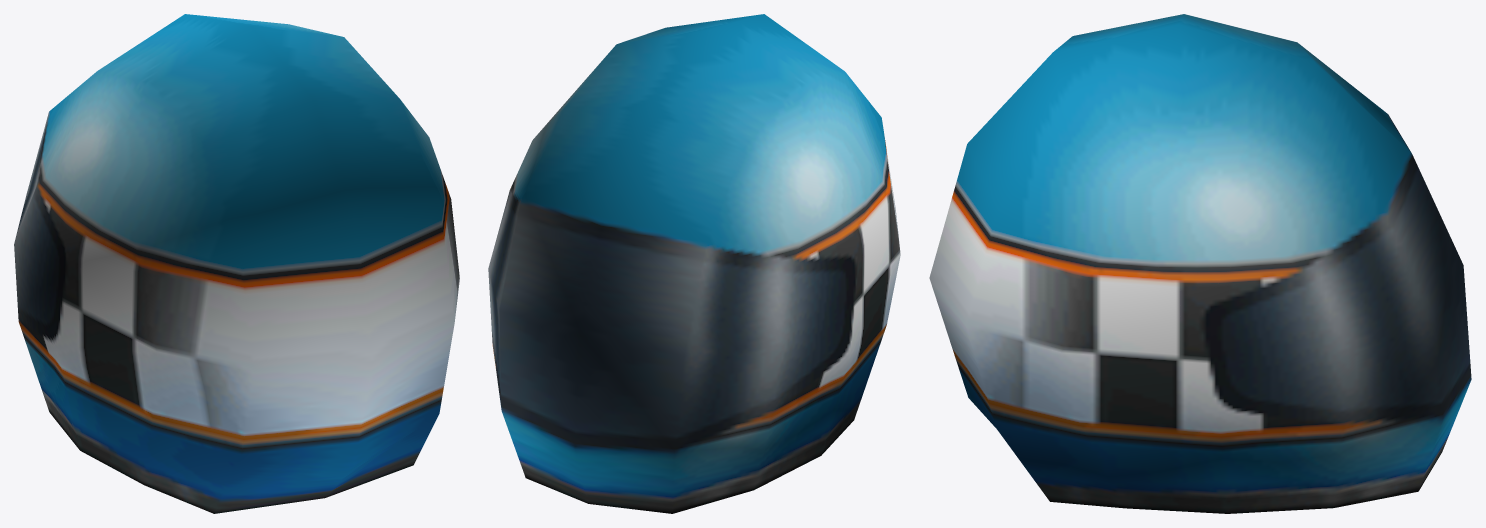
The model's file is list.ico.obj.
3 renders of one model, left to right at view 1: azimuth 30°, elevation 25°; view 2: azimuth 150°, elevation 25°; view 3: azimuth 270°, elevation 25°, orthographic. The views are drawn at different scales.
Size of the model in its own units: 3.76 by 4.3 by 4.95.
1 material, 1 textured.
